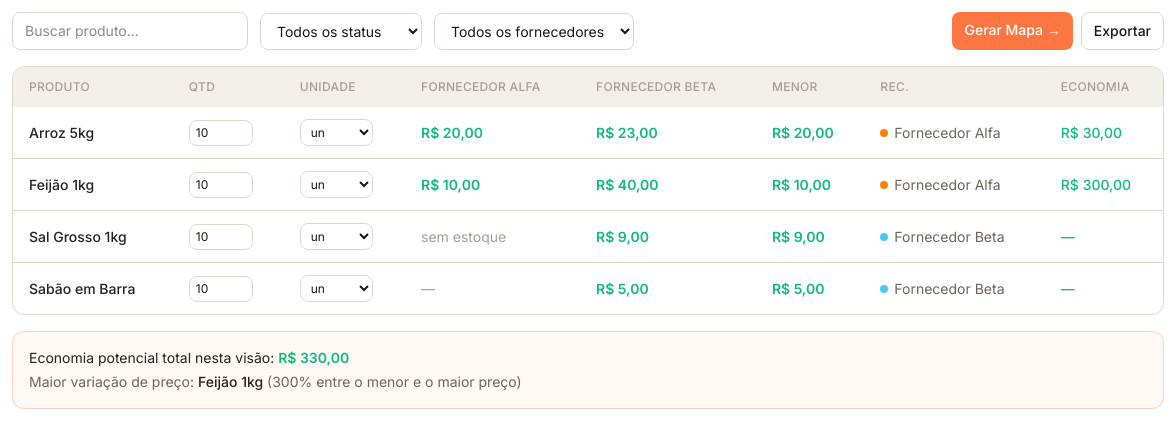
Scenario: TabelaComparativa — filtros › filtro de status mostra só os itens com o status de cobertura selecionado
The width and height of the screenshot is (1176, 426).
Select "Alta Variação" in the 1st dropdown showing "Todos os status" at (341, 31), box 260,12 -> 422,50
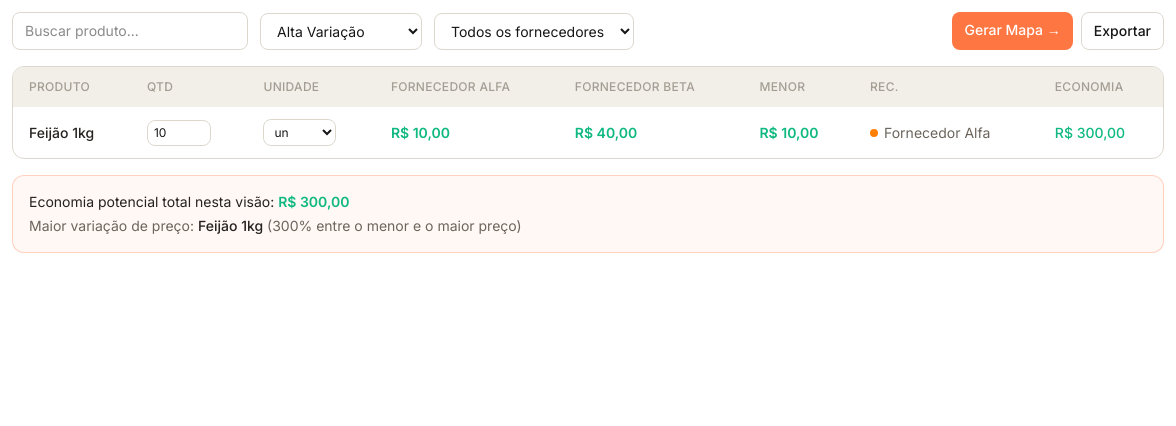
Expected: the text "Arroz 5kg" is gone
Expected: the text "Sal Grosso 1kg" is gone
Expected: the text "Sabão em Barra" is gone
